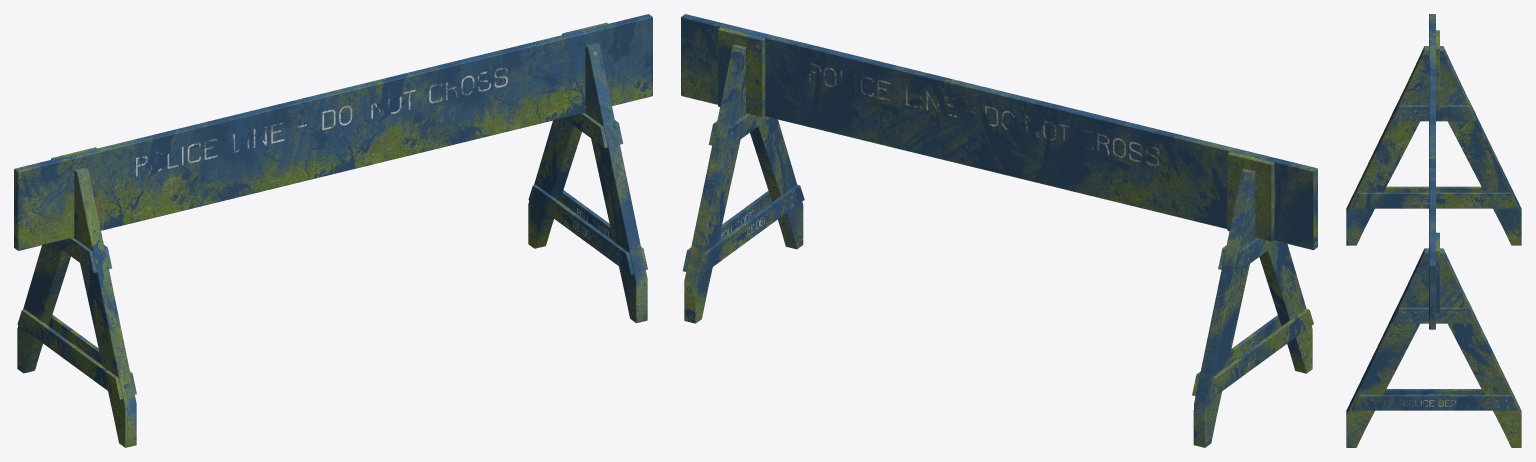
The model's file is policeline.glb.
3 views of the same model, side by side, from view 1: azimuth 30°, elevation 25°; view 2: azimuth 150°, elevation 25°; view 3: azimuth 270°, elevation 25° (orthographic). The views are drawn at different scales.
Visible parts, largest first — view 1: Police_Crowd_Barrier_1; view 2: Police_Crowd_Barrier_1; view 3: Police_Crowd_Barrier_1.
Part boxes in pixels (x1,y1,x2,y2): Police_Crowd_Barrier_1: [14, 14, 652, 447]; Police_Crowd_Barrier_1: [681, 14, 1317, 447]; Police_Crowd_Barrier_1: [1346, 14, 1521, 447].
Bounding box in the file's own units: 2500 × 951 × 736.
Materials: 1 (1 with a texture image).
